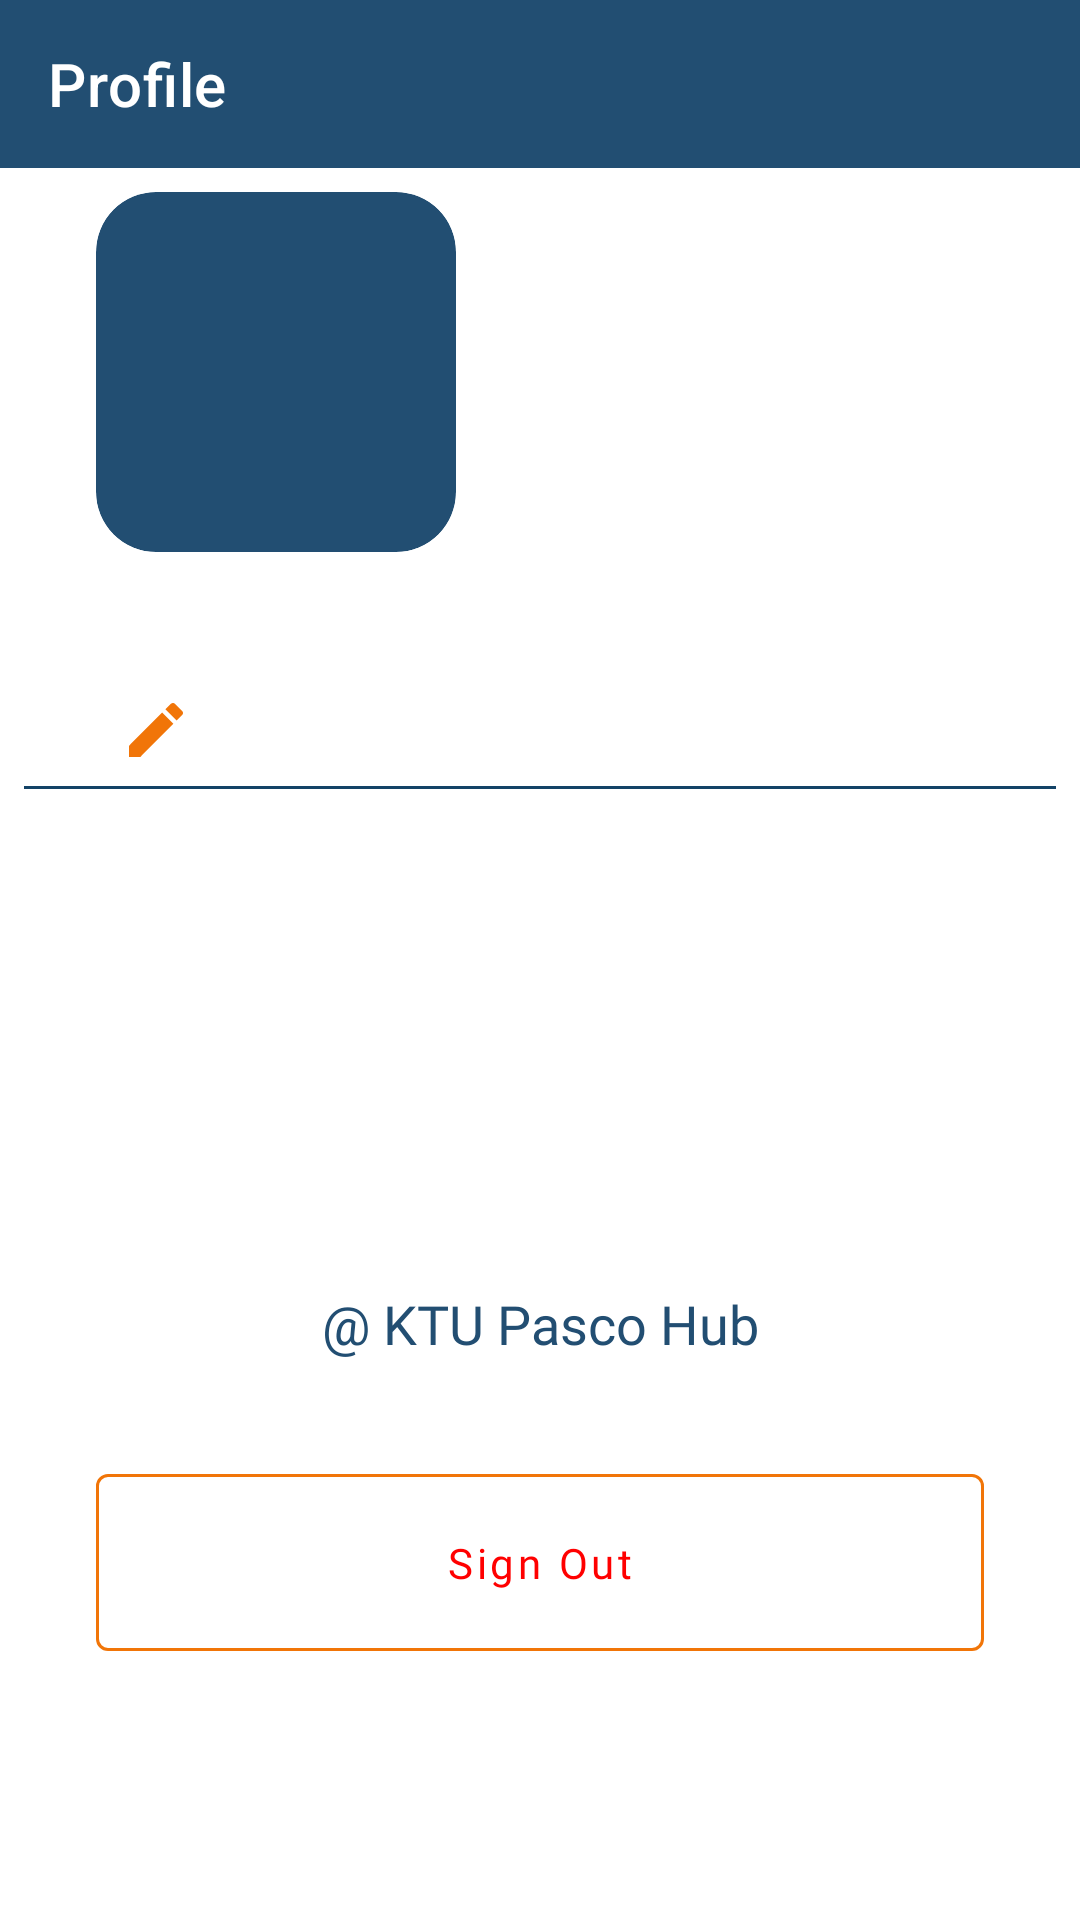

Locate icon controls on the screen. Image size 1080*1920, boxes as detection(x1, y1, x2, y2).
edit: detection(129, 703, 183, 757)
